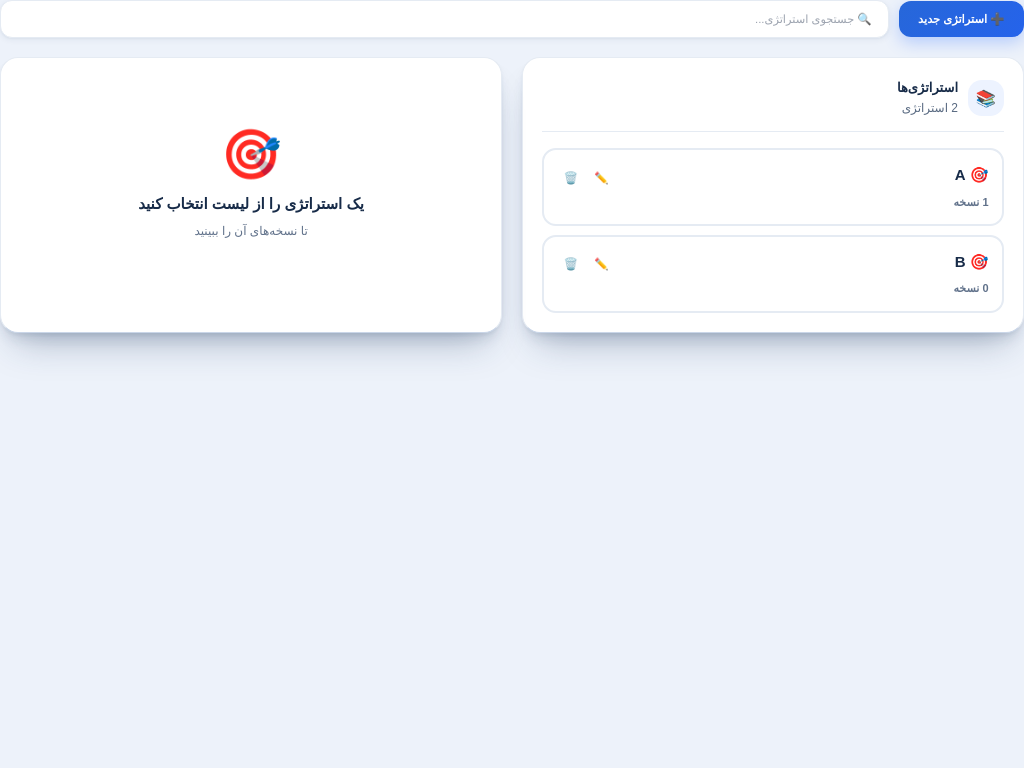
Test case: StrategyPage Stage 5 request ownership and version CRUD › A→B ignores A versions, stats/chart late successes and delayed errors
Click the element showing "🎯 A 1 نسخه ✏️ 🗑️" at x=773, y=187, box [542,148,1004,226]
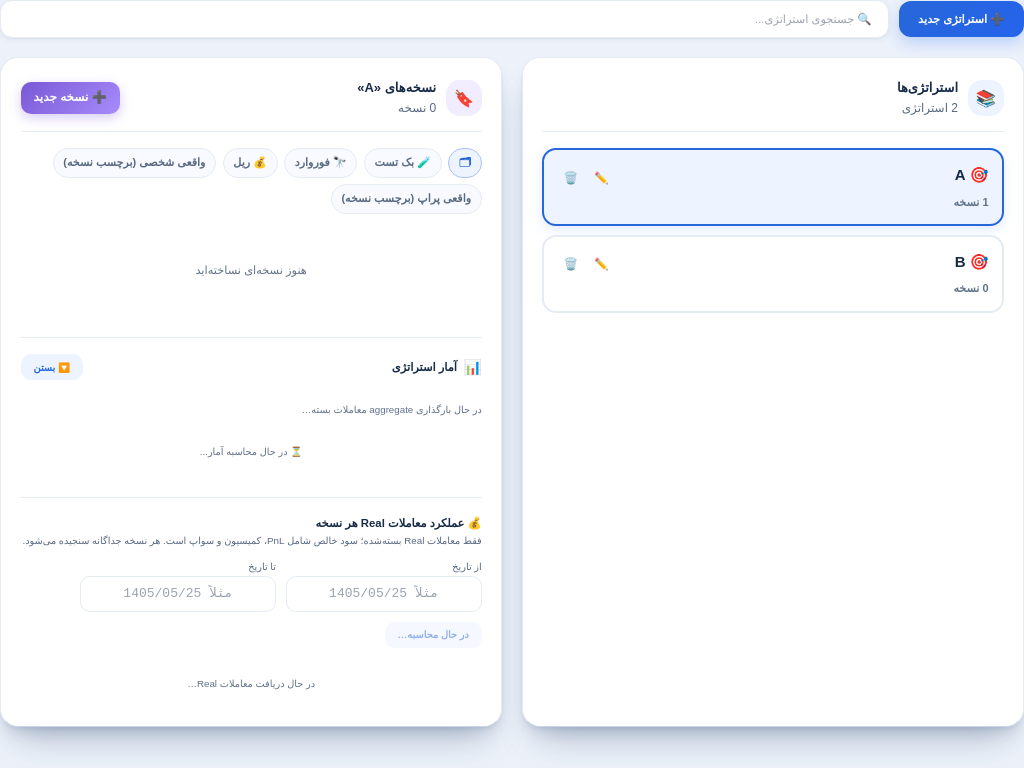
Click the element showing "🎯 B 0 نسخه ✏️ 🗑️" at x=773, y=274, box [542,234,1004,313]
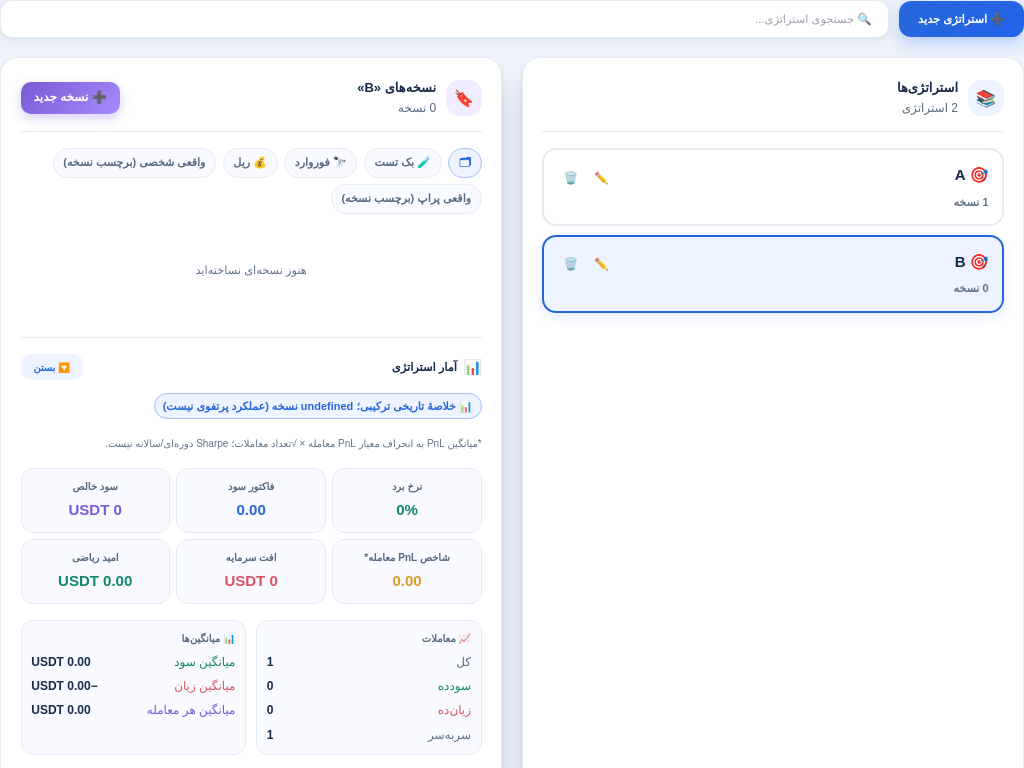
Check: the heading "نسخه‌های «B»" is shown, box [357,78,436,97]
